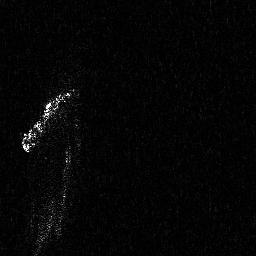ship: (19, 80, 83, 159)
